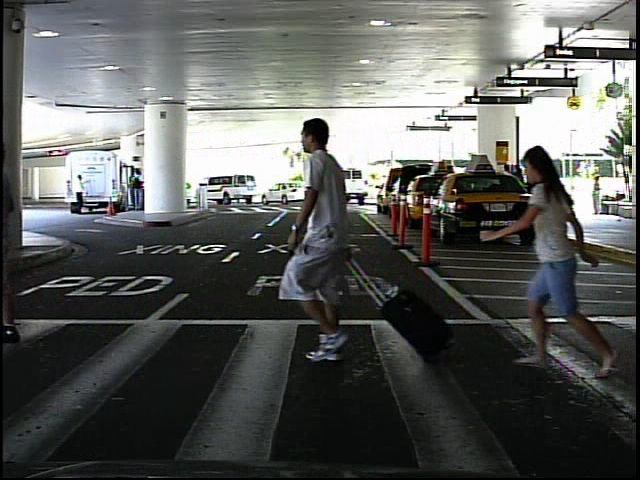person: (494, 130, 628, 385), (281, 108, 383, 374), (588, 172, 607, 218), (70, 172, 88, 216)
